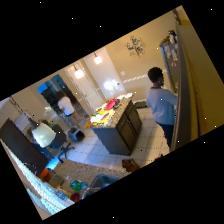person: (147, 67, 177, 149), (56, 91, 87, 128)
